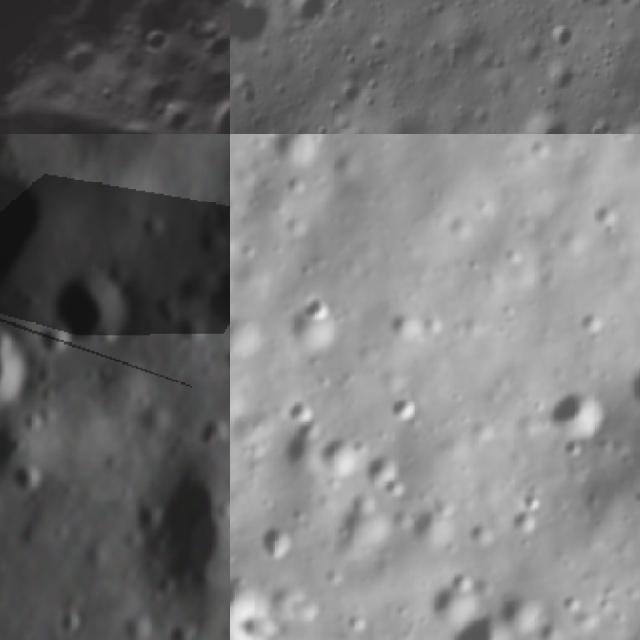crater: (52, 261, 145, 357), (287, 283, 353, 365), (0, 321, 41, 424), (540, 378, 607, 440), (442, 600, 514, 640), (314, 427, 364, 478), (234, 0, 282, 53), (257, 512, 306, 562), (230, 566, 269, 627), (269, 134, 332, 171), (130, 19, 176, 64), (205, 260, 230, 339), (388, 385, 429, 430), (536, 18, 579, 60), (362, 450, 408, 488), (151, 288, 190, 332), (520, 106, 574, 134), (198, 90, 230, 134), (53, 604, 87, 640), (14, 461, 48, 493), (200, 415, 230, 450), (169, 613, 203, 640), (140, 213, 169, 244), (557, 434, 590, 461), (623, 358, 640, 409), (126, 617, 159, 640), (211, 495, 230, 526)
